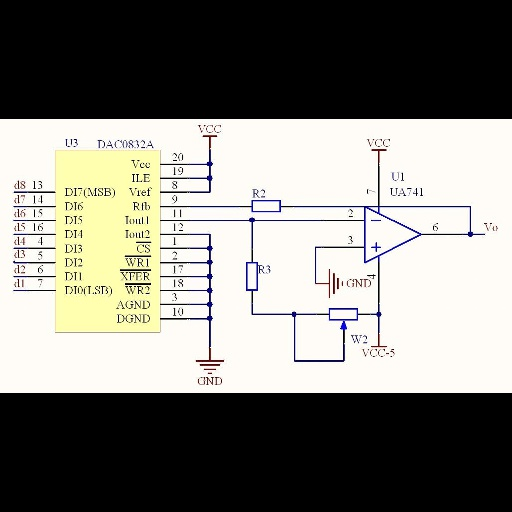amplifier: (364, 207, 422, 265)
firstresistance: (247, 199, 291, 214), (243, 257, 259, 298)
gnd: (192, 357, 232, 375), (326, 266, 345, 300)
